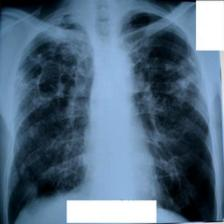tuberculosis: (2, 9, 216, 224)
